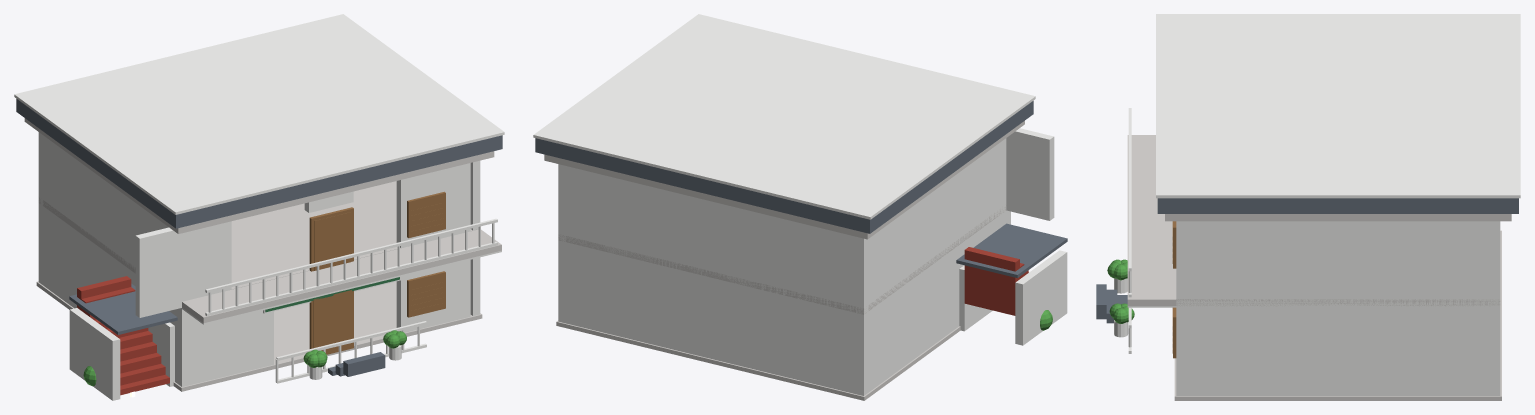
Rendered from Teacgers Quarters.glb.
3 renders of one model, left to right at view 1: azimuth 30°, elevation 25°; view 2: azimuth 150°, elevation 25°; view 3: azimuth 270°, elevation 25°, orthographic. The views are drawn at different scales.
Visible parts, largest first — view 1: Par_Cap, Slab, FF_Left, FF_FL, Balcony_Slab, GF_Left, GF_FL, Plinth, Par_F, FF_FR, Stair_WallL, Roof_Slab (+24 smaller); view 2: Par_Cap, GF_Back, FF_Back, FF_Left, GF_Left, Par_B, FF_FL, Stair_WallL, Roof_Slab, Slab, ExtStep_9, Stair_Roof (+3 smaller); view 3: Par_Cap, GF_Right, FF_Right, Balcony_Slab, Par_R, Roof_Slab, Plinth, Slab, GF_Back, FF_Back, Rail_Top, Step_2.
Part boxes in pixels (box(x1,y1,x2,y2)): Par_Cap: box(14, 14, 504, 214); Slab: box(38, 181, 476, 289); FF_Left: box(38, 132, 189, 301); FF_FL: box(135, 221, 231, 317); Balcony_Slab: box(182, 229, 501, 323); GF_Left: box(38, 206, 189, 386); GF_FL: box(177, 308, 273, 386); Plinth: box(36, 281, 482, 391); Par_F: box(173, 135, 502, 228); FF_FR: box(396, 163, 470, 248); Stair_WallL: box(69, 308, 120, 400); Roof_Slab: box(24, 118, 494, 233); Par_Cap: box(533, 14, 1035, 219); GF_Back: box(558, 240, 868, 395); FF_Back: box(558, 164, 868, 314); FF_Left: box(856, 138, 1006, 314); GF_Left: box(856, 210, 1010, 395); Par_B: box(535, 138, 873, 233); FF_FL: box(1006, 128, 1054, 220); Stair_WallL: box(1015, 250, 1067, 345); Roof_Slab: box(544, 121, 1024, 239); Slab: box(558, 207, 1005, 314); ExtStep_9: box(964, 247, 1019, 315); Stair_Roof: box(956, 223, 1067, 277); Par_Cap: box(1156, 14, 1520, 198); GF_Right: box(1176, 306, 1500, 395); FF_Right: box(1176, 221, 1500, 306); Balcony_Slab: box(1127, 135, 1176, 305); Par_R: box(1165, 198, 1511, 213); Roof_Slab: box(1165, 214, 1511, 221); Plinth: box(1174, 230, 1501, 400); Slab: box(1176, 299, 1500, 306); GF_Back: box(1490, 306, 1500, 395); FF_Back: box(1490, 221, 1500, 306); Rail_Top: box(1128, 108, 1131, 271); Step_2: box(1096, 284, 1106, 319).
Bounding box in the file's own units: 15.37 × 7.31 × 13.08.
